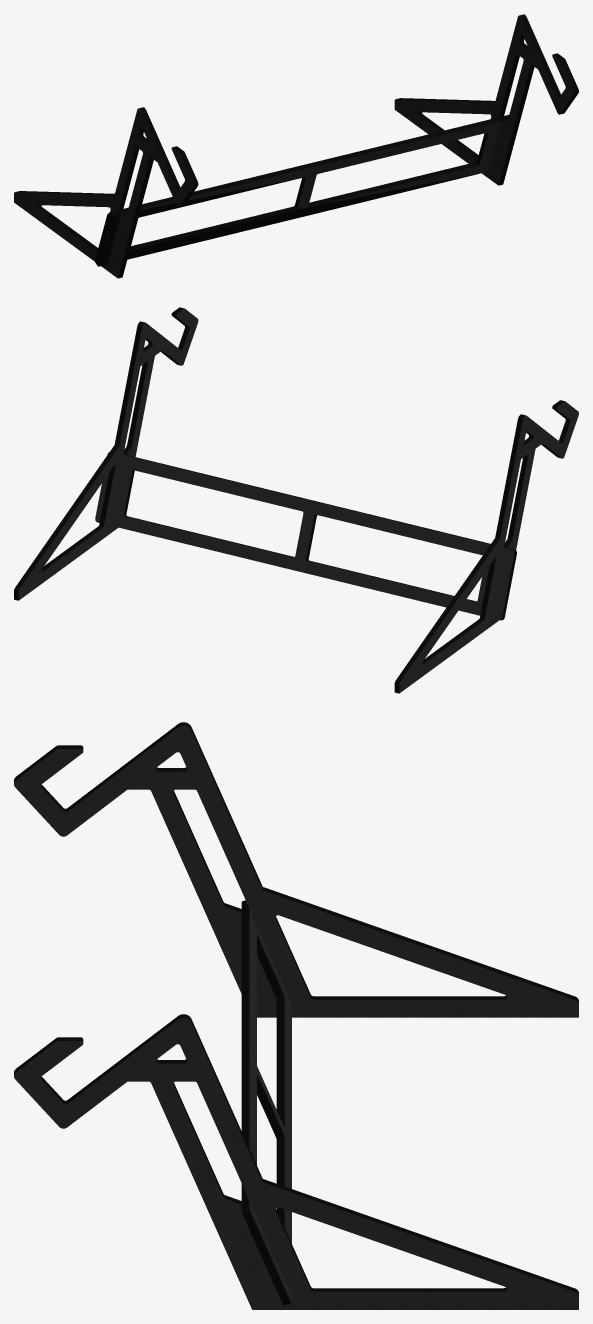
File: centered.gltf
The picture shows the model from 3 angles, top to bottom: view 1: azimuth 30°, elevation 25°; view 2: azimuth 150°, elevation 25°; view 3: azimuth 270°, elevation 25°; orthographic projection. The views are drawn at different scales.
Visible parts, largest first — view 1: hookSTL-right.002; view 2: hookSTL-right.002; view 3: hookSTL-right.002.
Boxes of the visible parts, x1,y1,x2,y2 form: hookSTL-right.002: (14,14,578,278); hookSTL-right.002: (14,307,578,693); hookSTL-right.002: (14,722,578,1309).
Size of the model in its own units: 0.26 by 0.1134 by 0.1988.
Materials: 2 (1 with a texture image).
